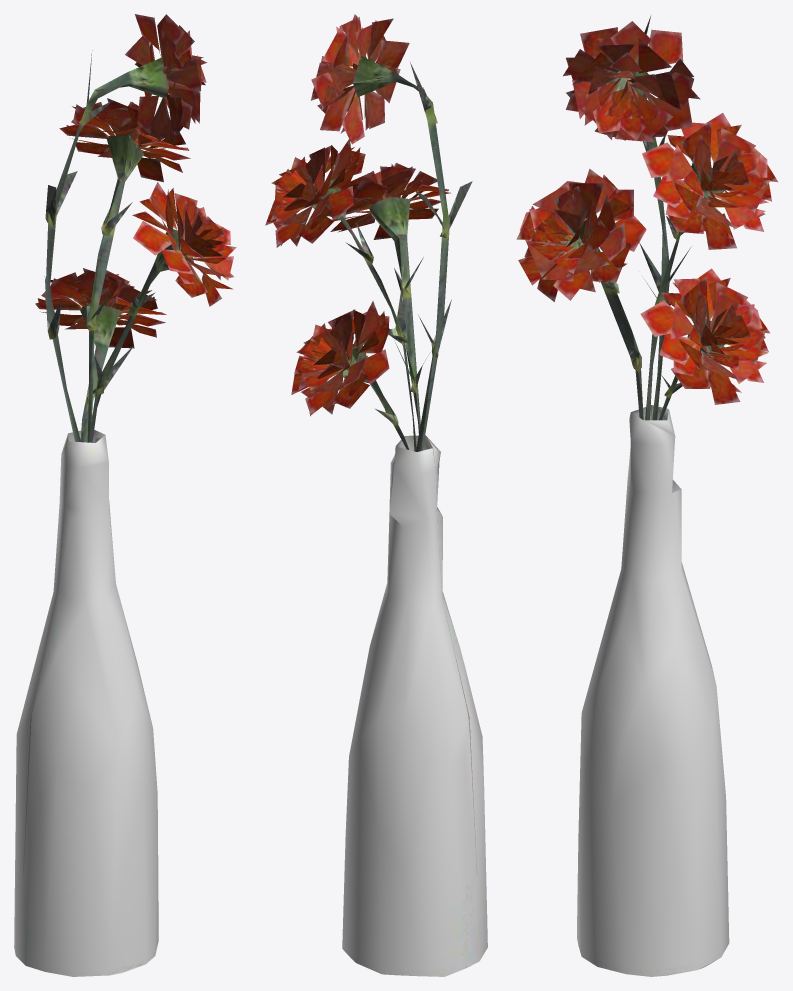
The model's file is Vase0021.obj.
The picture shows the model from 3 angles, left to right: view 1: azimuth 30°, elevation 25°; view 2: azimuth 150°, elevation 25°; view 3: azimuth 270°, elevation 25°; orthographic projection. The views are drawn at different scales.
Bounding box in the file's own units: 0.138 × 0.669 × 0.165.
1 material, 1 textured.
